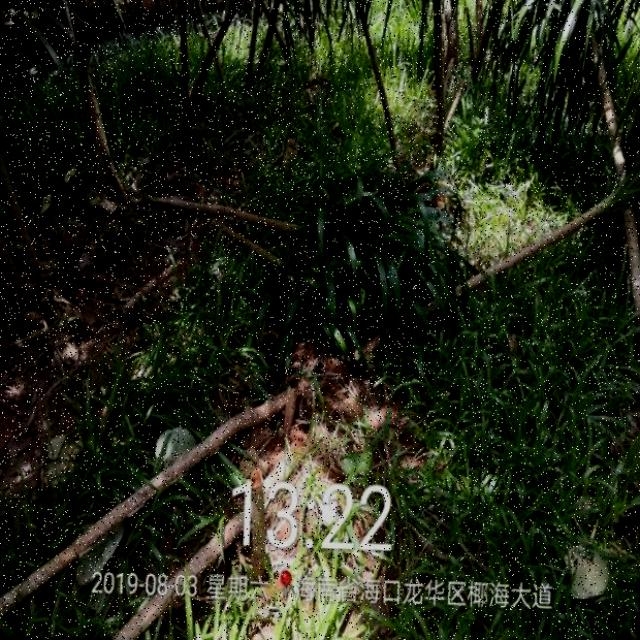fallen_object: (105, 144, 474, 326)
